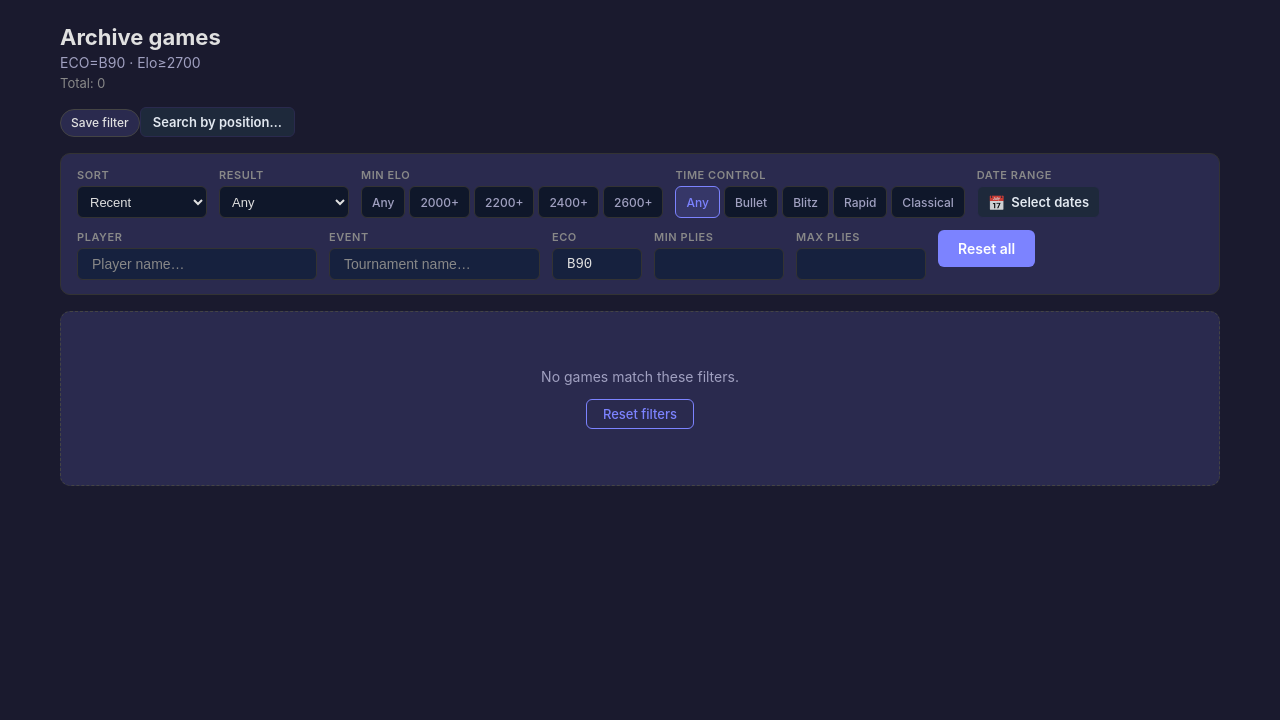
Scenario: SavedFiltersDropdown в ArchiveMetadataMode — KS-2936 интеграция › KS-2938 §1: сохранение пресета через dropdown — POST на /user/saved-filters, новый пресет виден в списке
This screenshot has width=1280, height=720.
Step 1. Click the button with test id "saved-filters-toggle" → (100, 123), box [60,109,140,137]
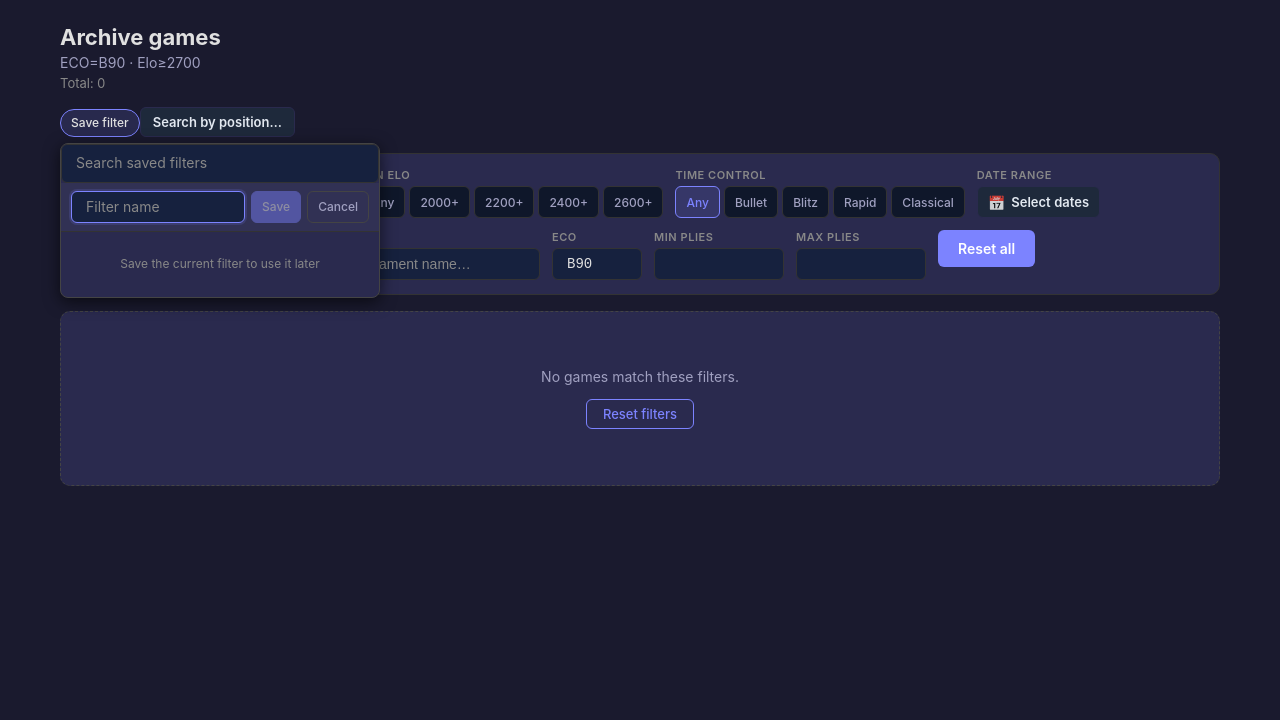
Step 2. Type "My Najdorf" into the field with test id "saved-filters-save-input" → (158, 207), box [71,191,245,223]
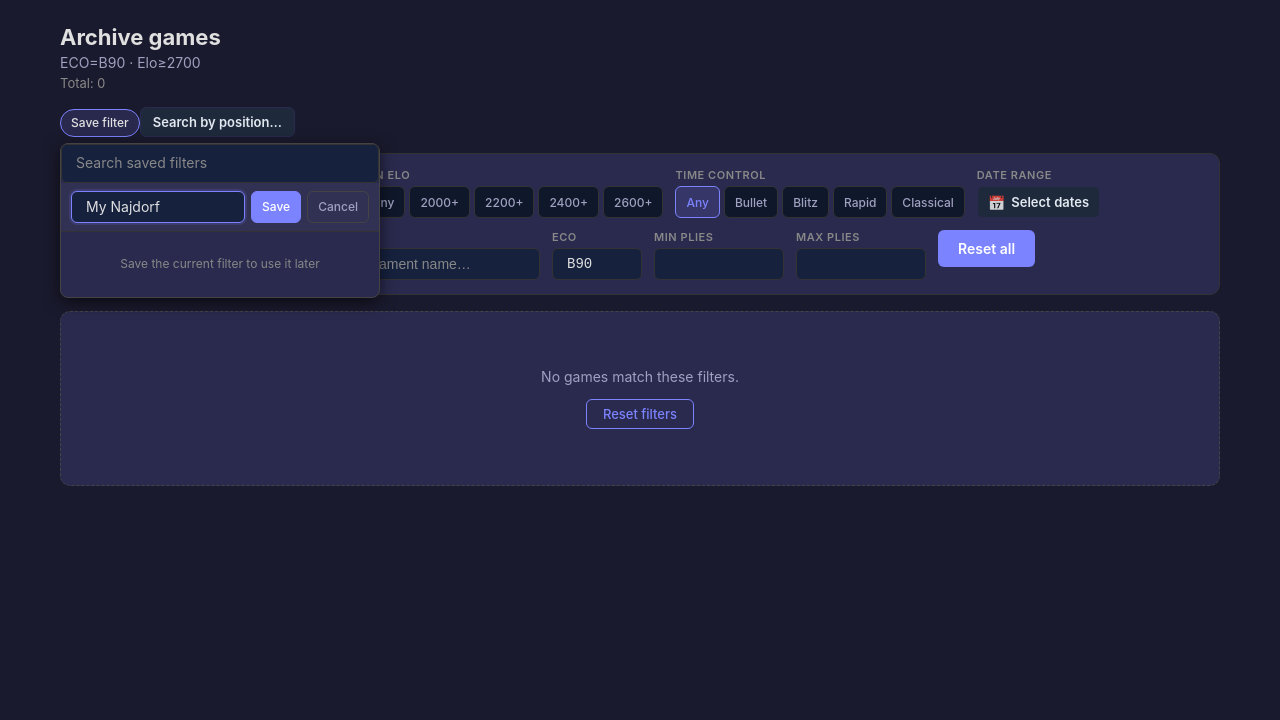
Step 3. Click the button with test id "saved-filters-save-confirm" → (276, 207), box [251,191,301,223]
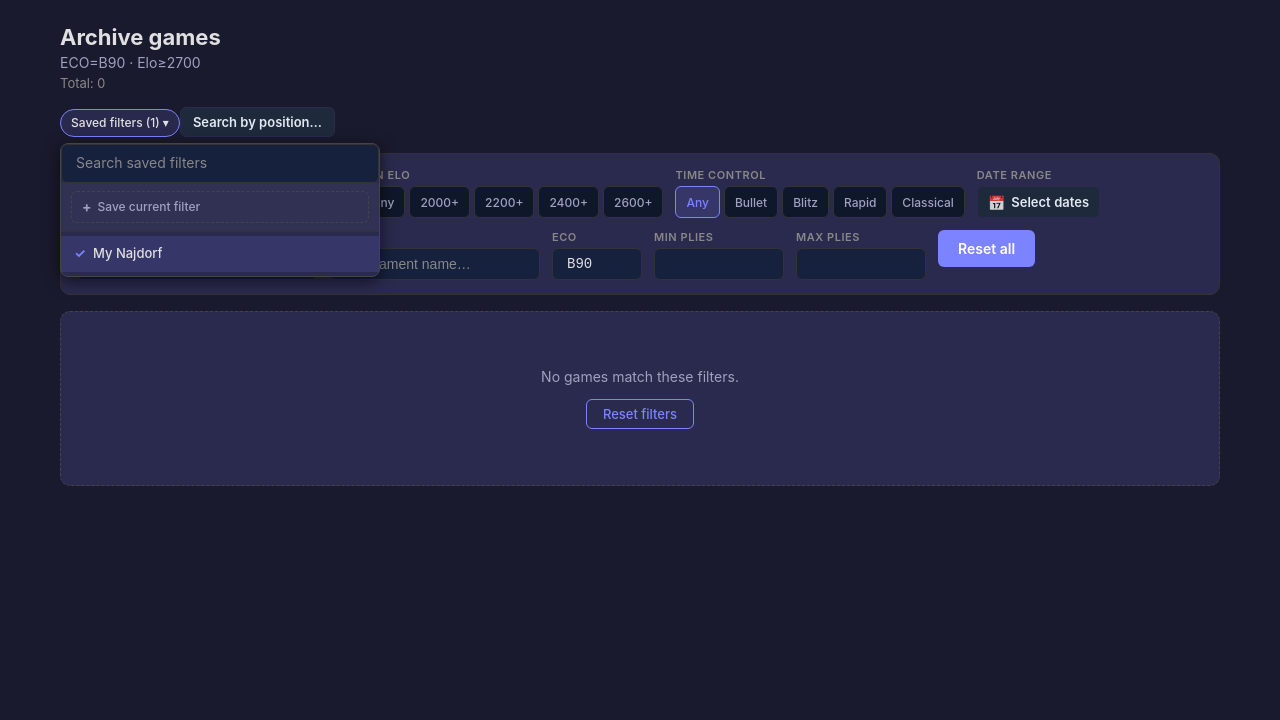
Check: the list item with test id "saved-filters-item-saved-1" is shown, box [61,236,379,272]
Check: the button with test id "saved-filters-toggle" shows "(1)", box [60,109,180,137]
